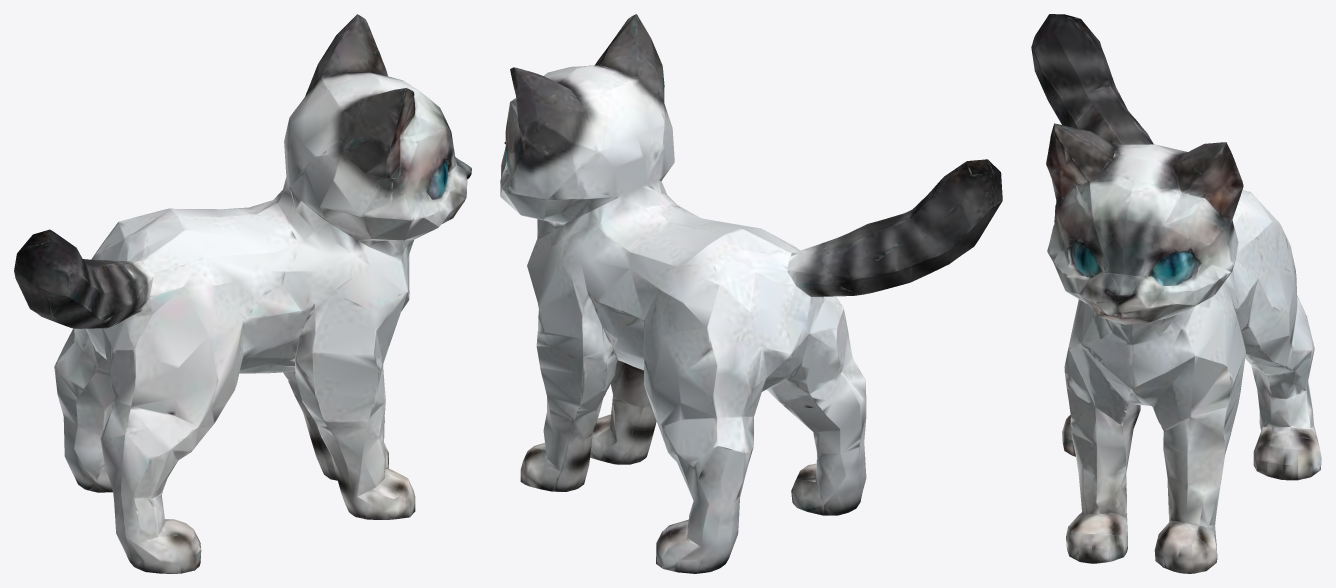
File: ICICLEPAW-lo.glb
3 views of the same model, side by side, from view 1: azimuth 30°, elevation 25°; view 2: azimuth 150°, elevation 25°; view 3: azimuth 270°, elevation 25° (orthographic). The views are drawn at different scales.
Visible parts, largest first — view 1: fit; view 2: fit; view 3: fit.
Boxes of the visible parts, x1,y1,x2,y2 form: fit: [14, 14, 471, 573]; fit: [500, 14, 1002, 573]; fit: [1031, 14, 1321, 573].
Size of the model in its own units: 1.14 by 1 by 0.6143.
1 material, 1 textured.
